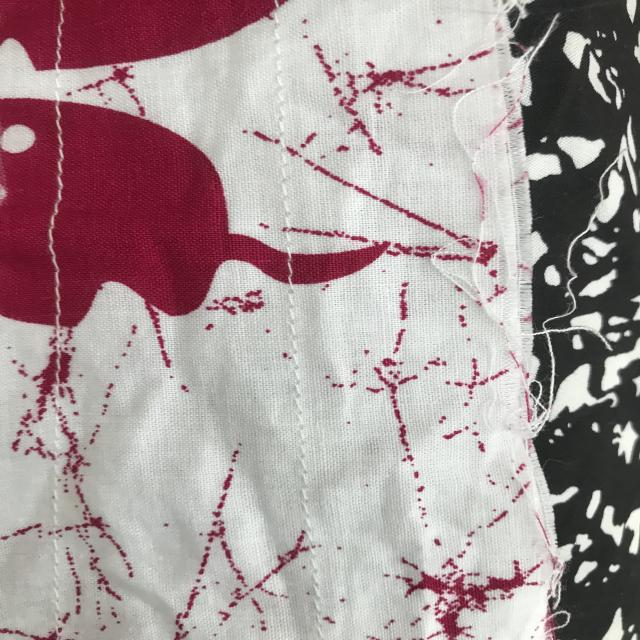good: (281, 317, 322, 458), (46, 449, 78, 591), (49, 106, 76, 176)
